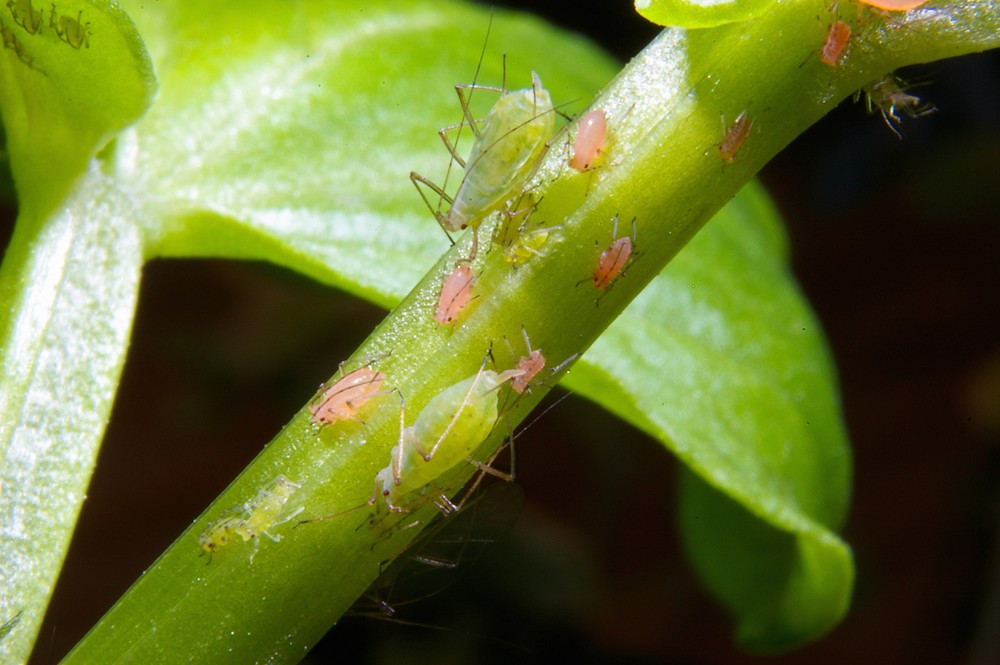Pulgon: (385, 68, 566, 238), (368, 362, 513, 513), (284, 353, 404, 433), (572, 213, 652, 304), (227, 485, 308, 552), (791, 11, 869, 79), (558, 109, 623, 179), (423, 262, 494, 325), (704, 104, 767, 173), (496, 221, 567, 280), (504, 331, 560, 396)
